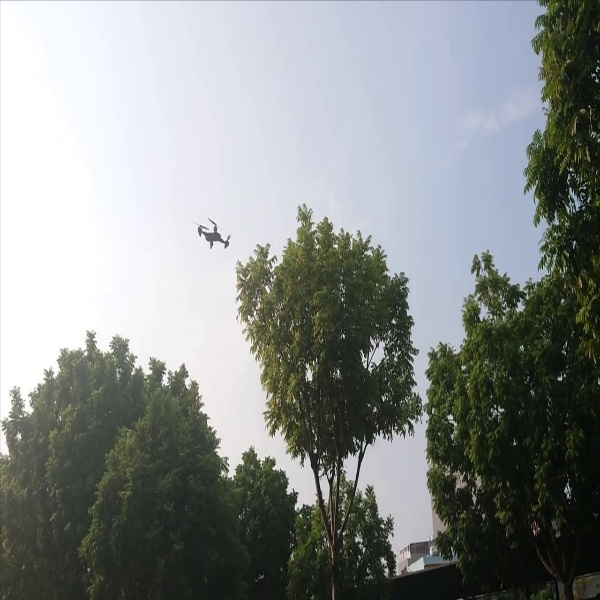drone: (195, 214, 236, 258)
